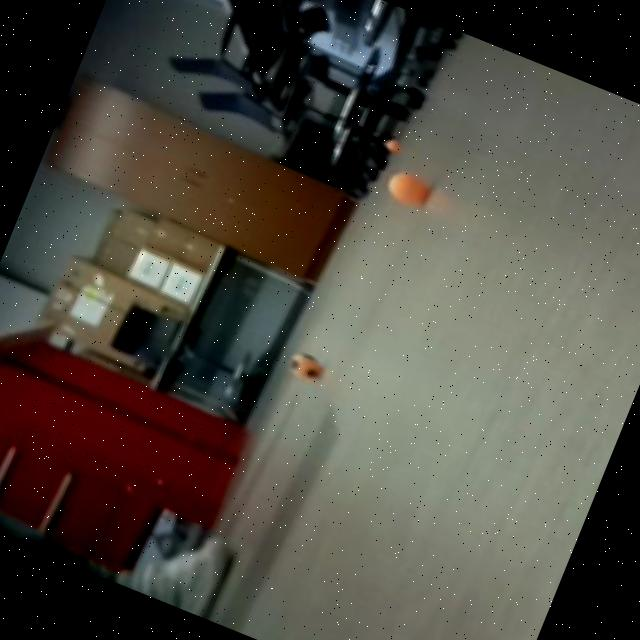ping-pong-ball: (274, 346, 330, 392), (381, 164, 432, 208), (376, 132, 404, 156)
